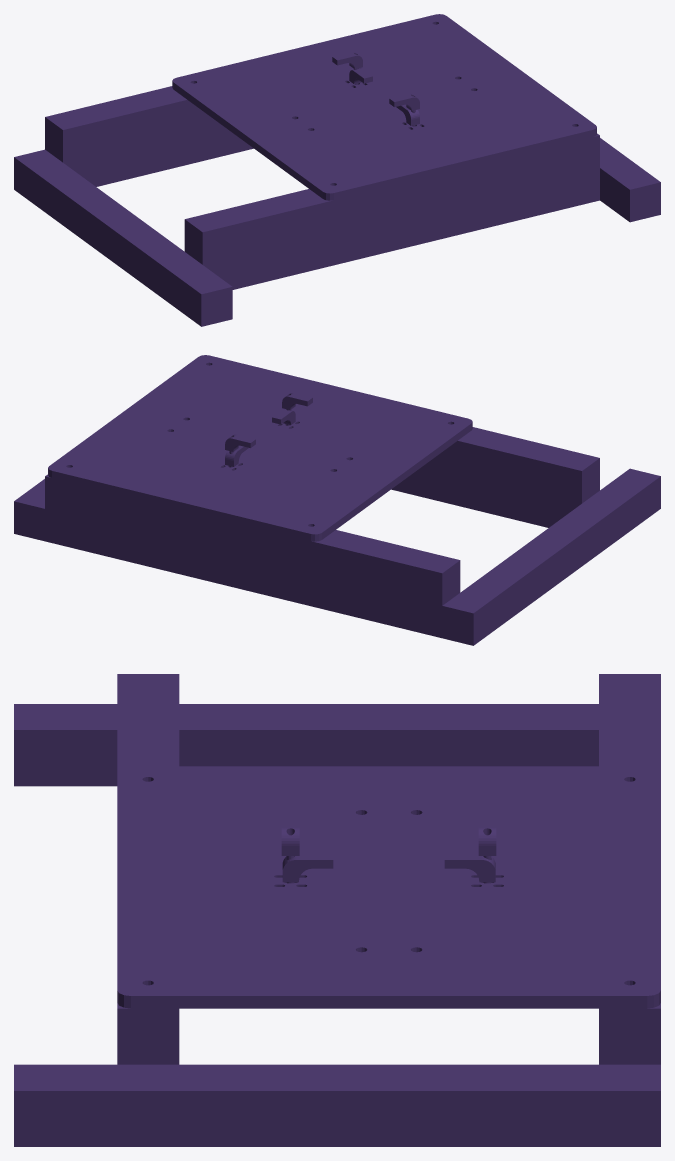
The model's file is BD_Fixture.dae.
3 renders of one model, top to bottom at view 1: azimuth 30°, elevation 25°; view 2: azimuth 150°, elevation 25°; view 3: azimuth 270°, elevation 25°, orthographic. The views are drawn at different scales.
Parts seen in each view (by area): view 1: node.001; view 2: node.001; view 3: node.001.
Part boxes in pixels (<box>): node.001: <box>14,14,660,326</box>; node.001: <box>14,355,660,645</box>; node.001: <box>14,674,660,1146</box>.
Bounding box in the file's own units: 0.665 × 0.47 × 0.1409.
